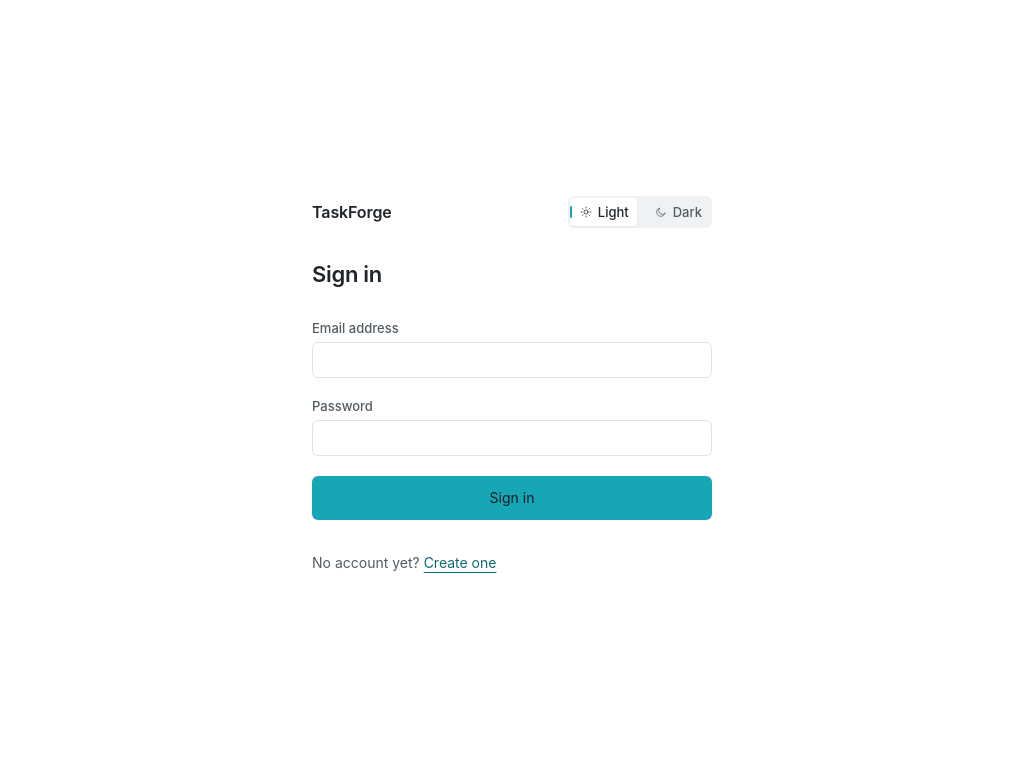
Test: workspace creation and switching › creates a workspace, becomes owner, and lists it (AC-WS-01, AC-WS-02)
The image size is (1024, 762).
Expected: the heading "Sign in" is shown, [312, 260, 382, 286]
Step 1. Click the link "Create one" → click(460, 562), box [424, 554, 496, 570]
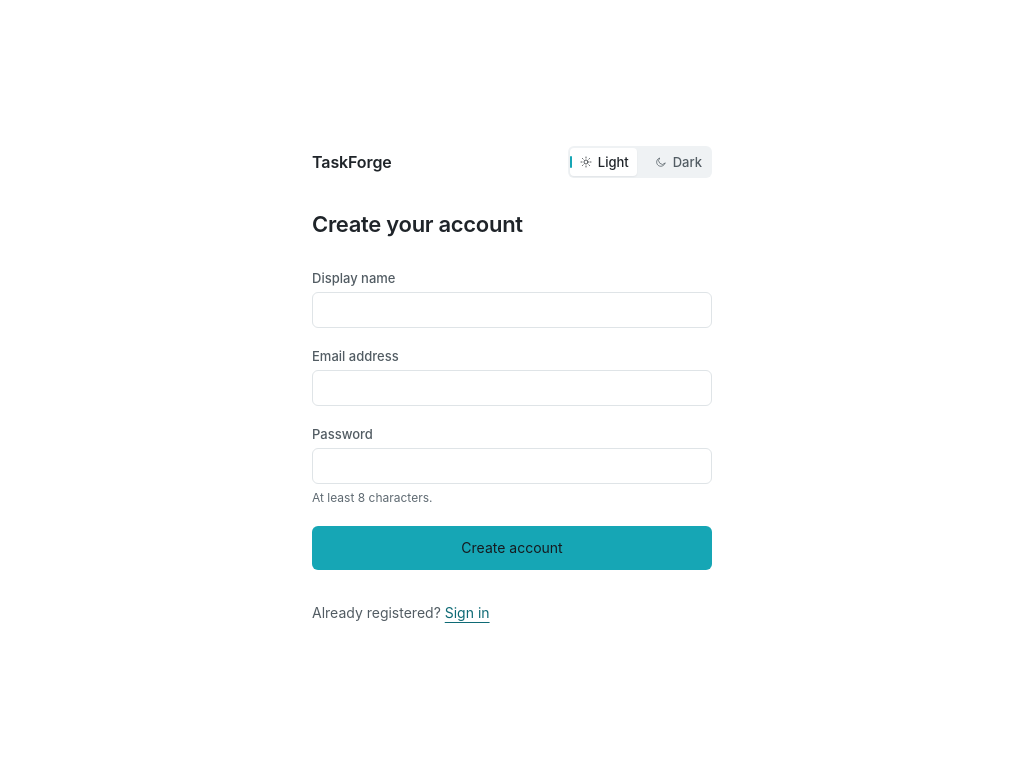
Step 2. Type "Ada Lovelace" into the field labelled "Display name" → (512, 310), box [312, 292, 712, 328]
Step 3. Type "ada@example.com" into the field labelled "Email address" → (512, 388), box [312, 370, 712, 406]
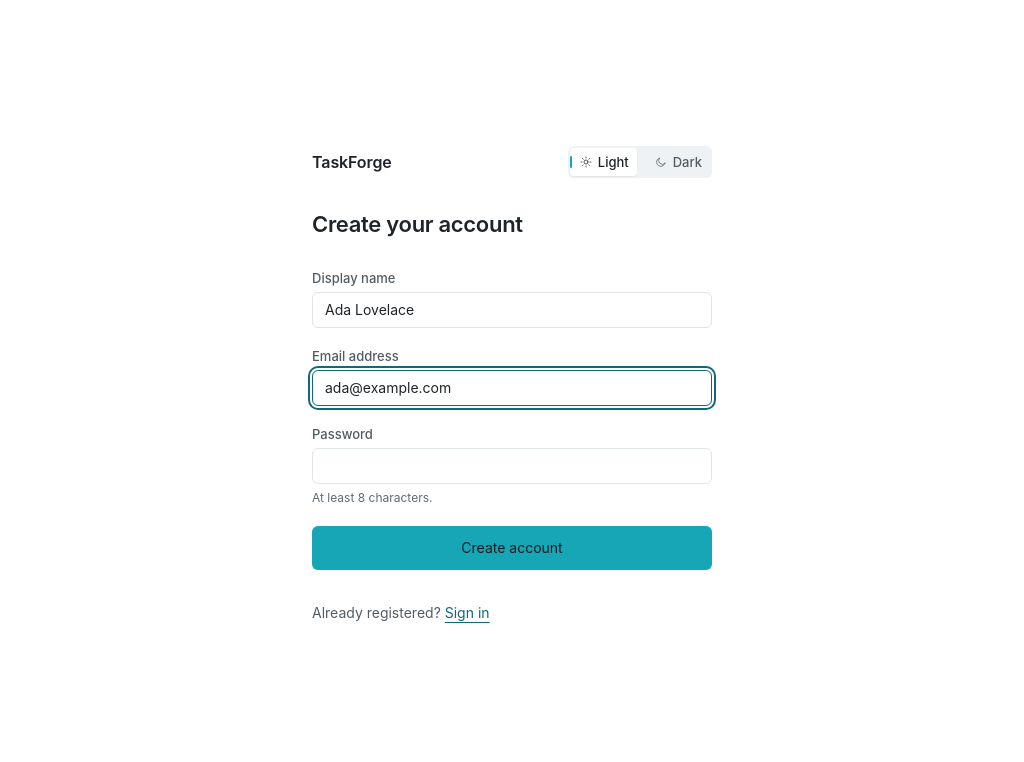
Step 4. Type "a-good-password" into the password field labelled "Password" → (512, 466), box [312, 448, 712, 484]
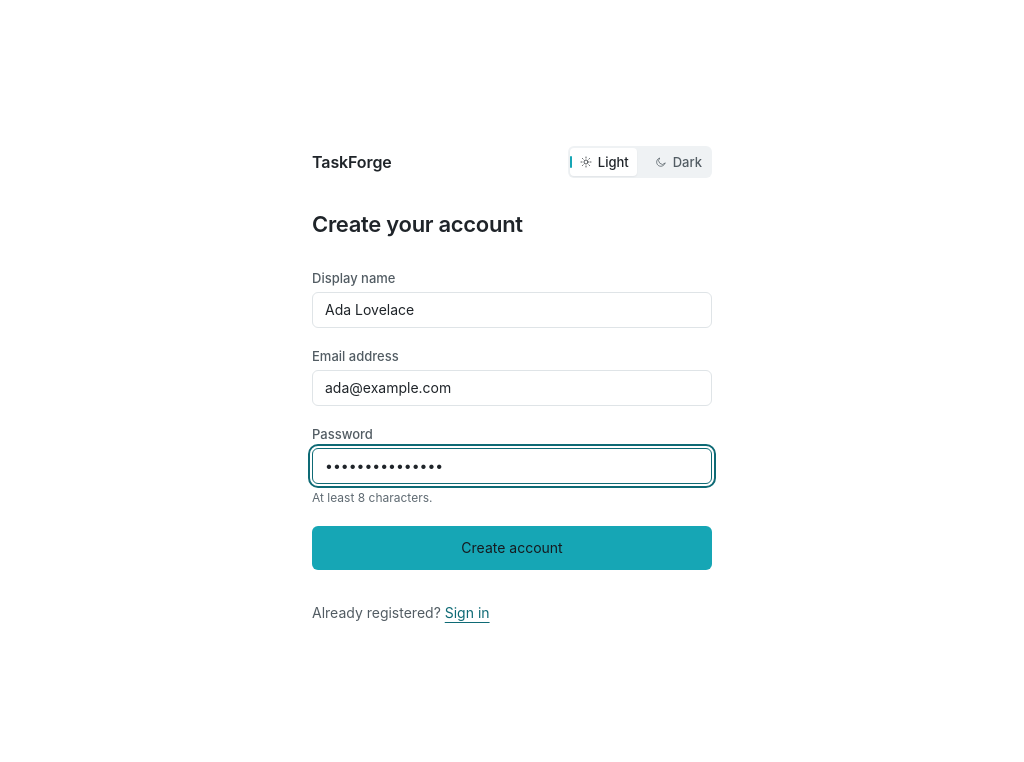
Step 5. Click the button "Create account" → click(512, 548), box [312, 526, 712, 570]
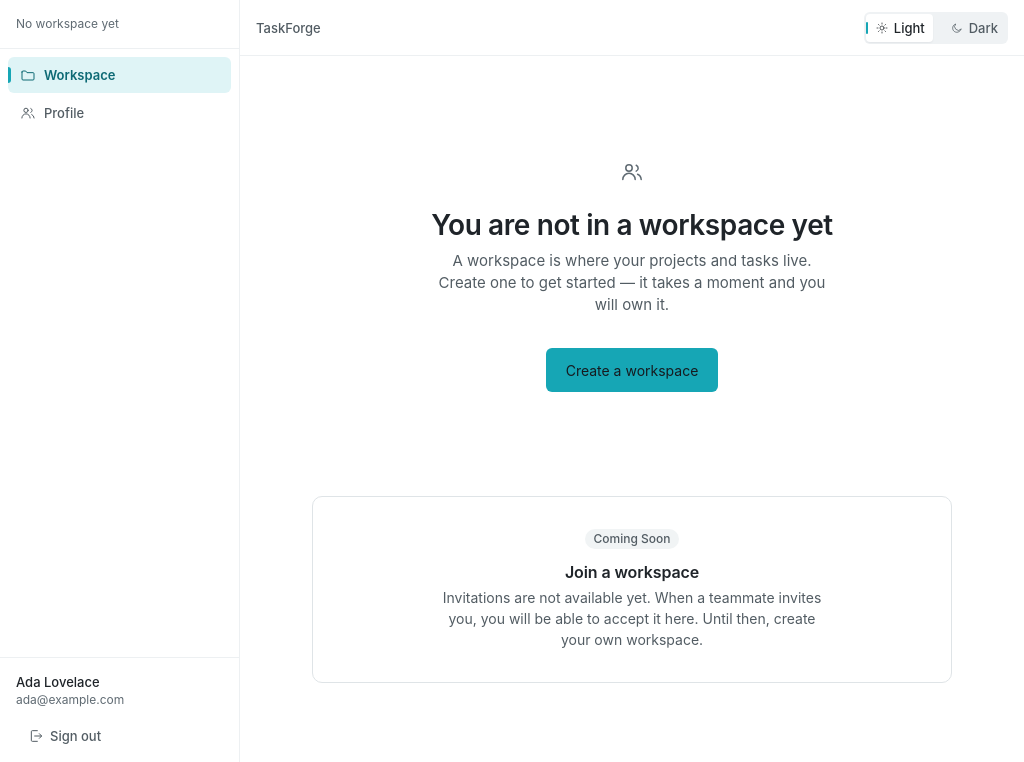
Step 6. Click the button "Create a workspace" → click(632, 370), box [546, 348, 718, 392]
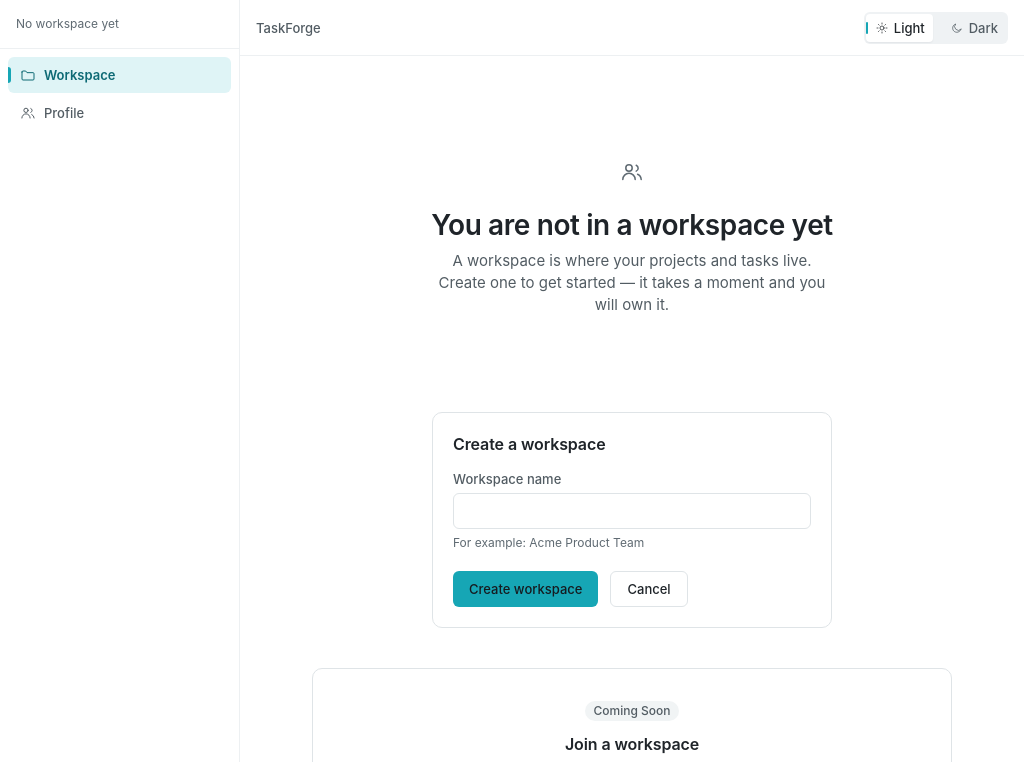
Step 7. Type "Acme Product Team" into the field labelled "Workspace name" → (632, 511), box [453, 493, 811, 529]
Step 8. Click the button "Create workspace" → click(526, 589), box [453, 571, 598, 607]
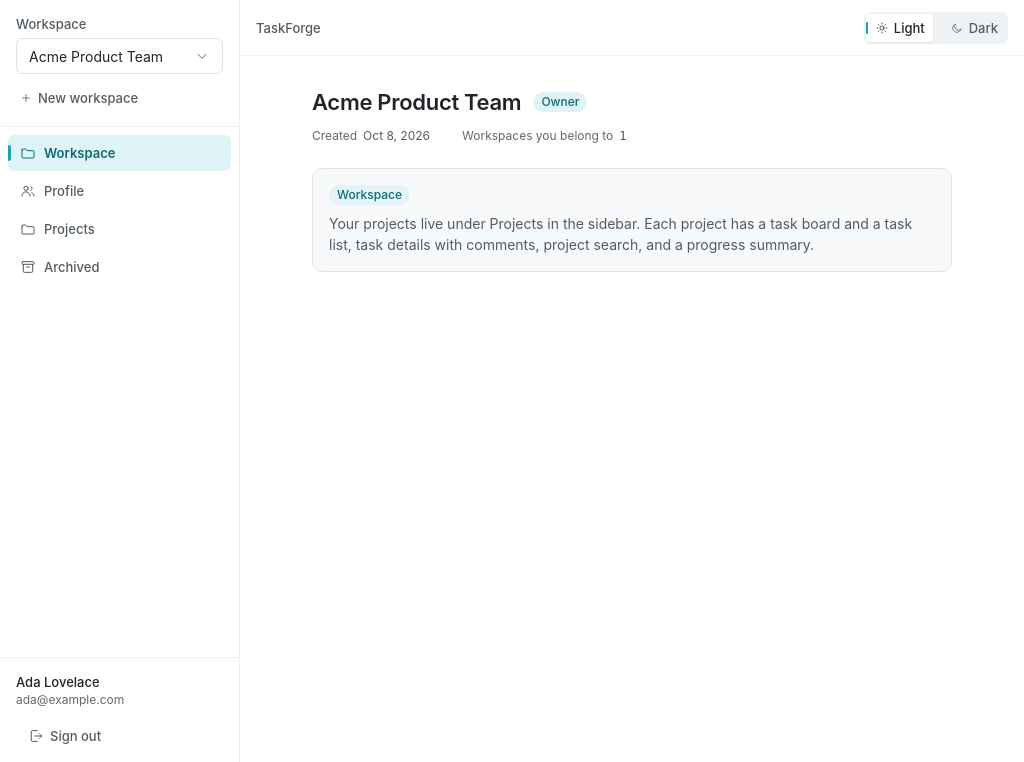
Expected: the heading "Acme Product Team" is shown, [312, 88, 521, 116]
Expected: the text "Owner" is shown, [533, 92, 588, 112]
